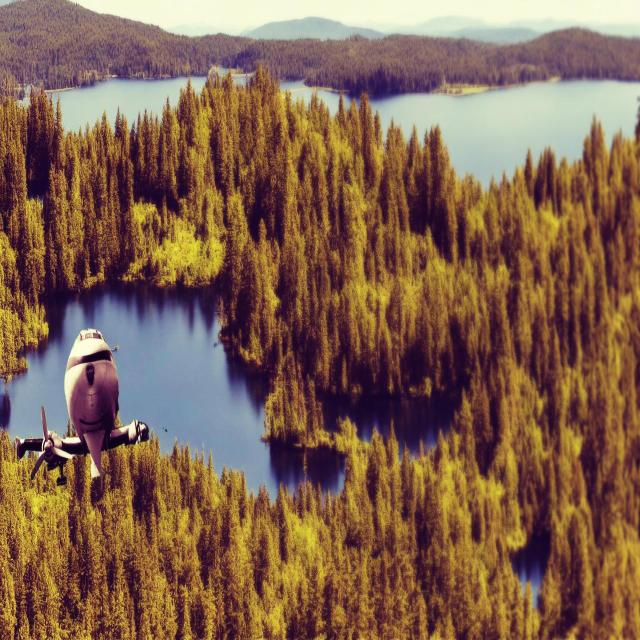airplane: (14, 326, 149, 486)
